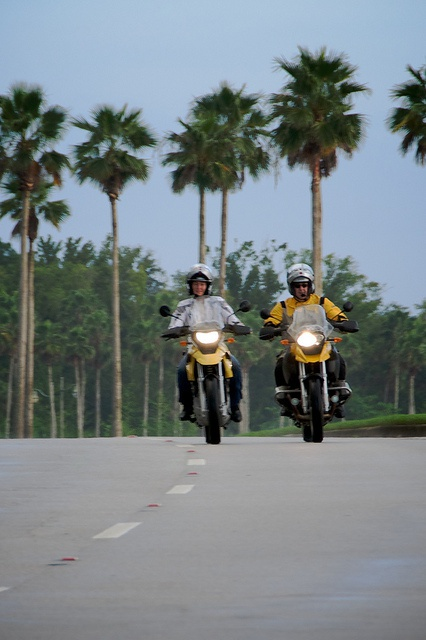non-vehicle: (261, 300, 358, 450), (151, 300, 251, 441)
